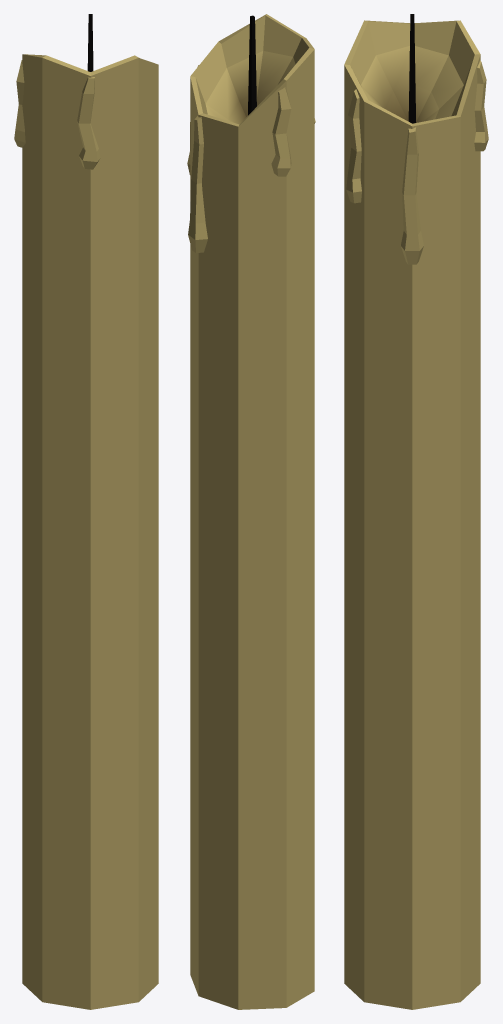
Rendered from Vela - Var 2.fbx.
3 views of the same model, side by side, from view 1: azimuth 90°, elevation 25°; view 2: azimuth 210°, elevation 25°; view 3: azimuth 270°, elevation 25° (orthographic).
Parts seen in each view (by area): view 1: Vela_longa_derretida; view 2: Vela_longa_derretida; view 3: Vela_longa_derretida.
Part boxes in pixels (box(x1,y1,x2,y2)): Vela_longa_derretida: box(14, 14, 158, 1009); Vela_longa_derretida: box(187, 14, 315, 1009); Vela_longa_derretida: box(344, 14, 488, 1009).
Bounding box in the file's own units: 2.57 × 19.75 × 2.67.
